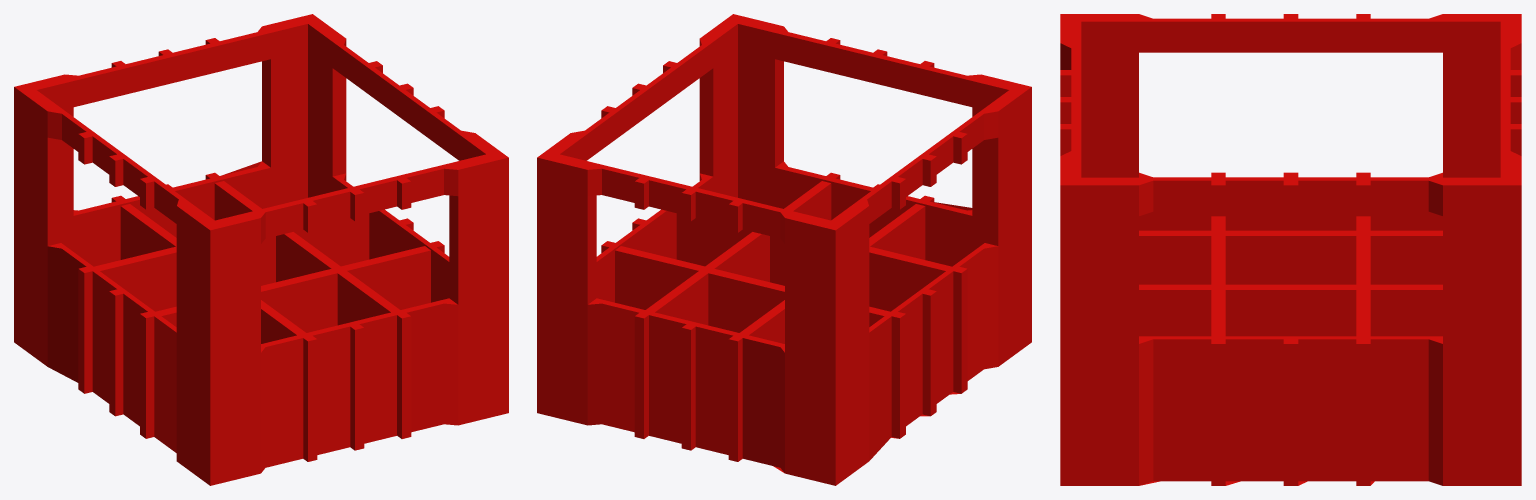
The model's file is Caja de refrescos.fbx.
3 renders of one model, left to right at view 1: azimuth 30°, elevation 25°; view 2: azimuth 150°, elevation 25°; view 3: azimuth 270°, elevation 25°, orthographic. The views are drawn at different scales.
Parts seen in each view (by area): view 1: Cube; view 2: Cube; view 3: Cube.
Boxes of the visible parts, x1,y1,x2,y2 form: Cube: (14,14,508,485); Cube: (537,14,1031,485); Cube: (1060,14,1521,485).
Bounding box in the file's own units: 877 × 718 × 998.
